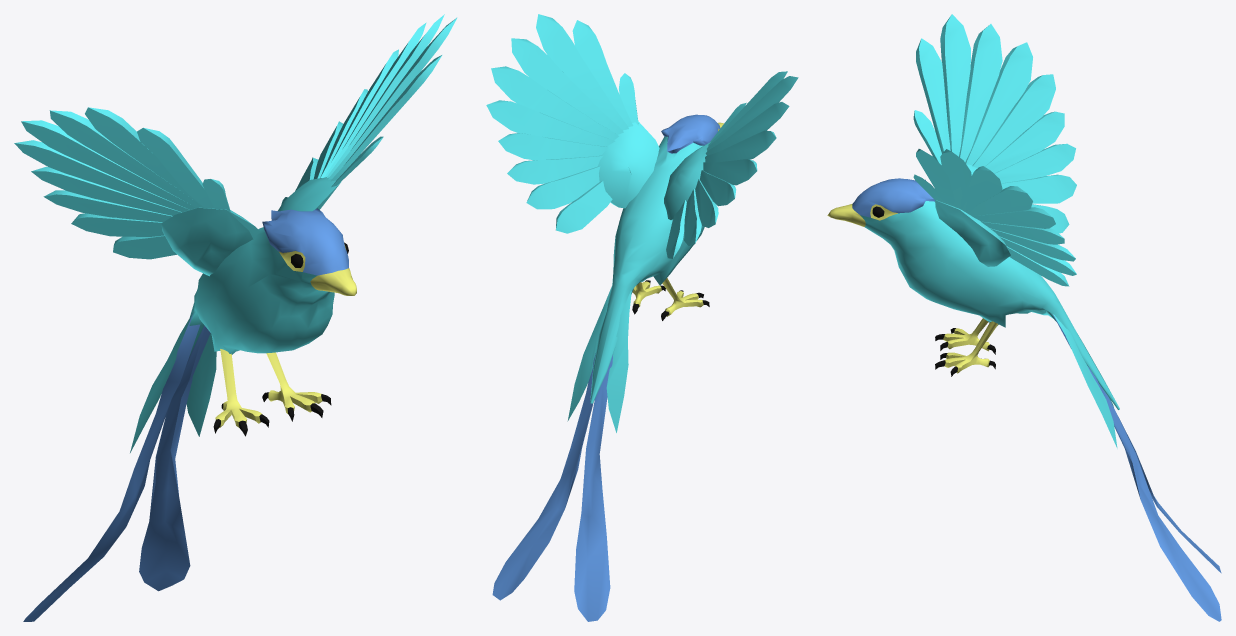
File: freedom_bird.glb
The picture shows the model from 3 angles, left to right: view 1: azimuth 30°, elevation 25°; view 2: azimuth 150°, elevation 25°; view 3: azimuth 270°, elevation 25°; orthographic projection. The views are drawn at different scales.
Visible parts, largest first — view 1: rwing, dyellow, feather1, lwing, byellow, feather2, leg, red; view 2: lwing, feather1, rwing, dyellow, feather2, byellow, leg; view 3: rwing, dyellow, lwing, feather1, byellow, leg, feather2, red.
Part boxes in pixels (<box>): rwing: <box>14,107,260,276</box>; dyellow: <box>189,227,334,355</box>; feather1: <box>23,314,210,621</box>; lwing: <box>278,14,457,211</box>; byellow: <box>262,208,348,275</box>; feather2: <box>130,313,216,452</box>; leg: <box>215,349,322,427</box>; red: <box>279,245,356,295</box>; lwing: <box>486,14,659,233</box>; feather1: <box>492,291,631,621</box>; rwing: <box>664,71,798,258</box>; dyellow: <box>590,136,704,403</box>; feather2: <box>567,286,631,432</box>; byellow: <box>661,114,720,153</box>; leg: <box>632,278,703,316</box>; rwing: <box>913,14,1076,233</box>; dyellow: <box>860,201,1119,409</box>; lwing: <box>913,149,1076,286</box>; feather1: <box>1052,314,1221,621</box>; byellow: <box>852,178,934,217</box>; leg: <box>943,318,998,373</box>; feather2: <box>1053,314,1117,448</box>; red: <box>827,203,897,226</box>.
Bounding box in the file's own units: 398 × 631 × 438.
